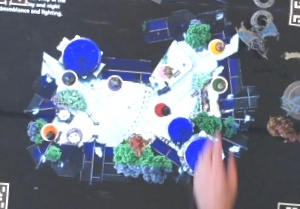blue: (57, 67, 79, 88)
green: (207, 73, 227, 93)
orange: (39, 121, 61, 145)
pink: (154, 62, 174, 80)
red: (149, 100, 173, 121)
violet: (104, 72, 124, 91)
yellow: (204, 36, 225, 56)
